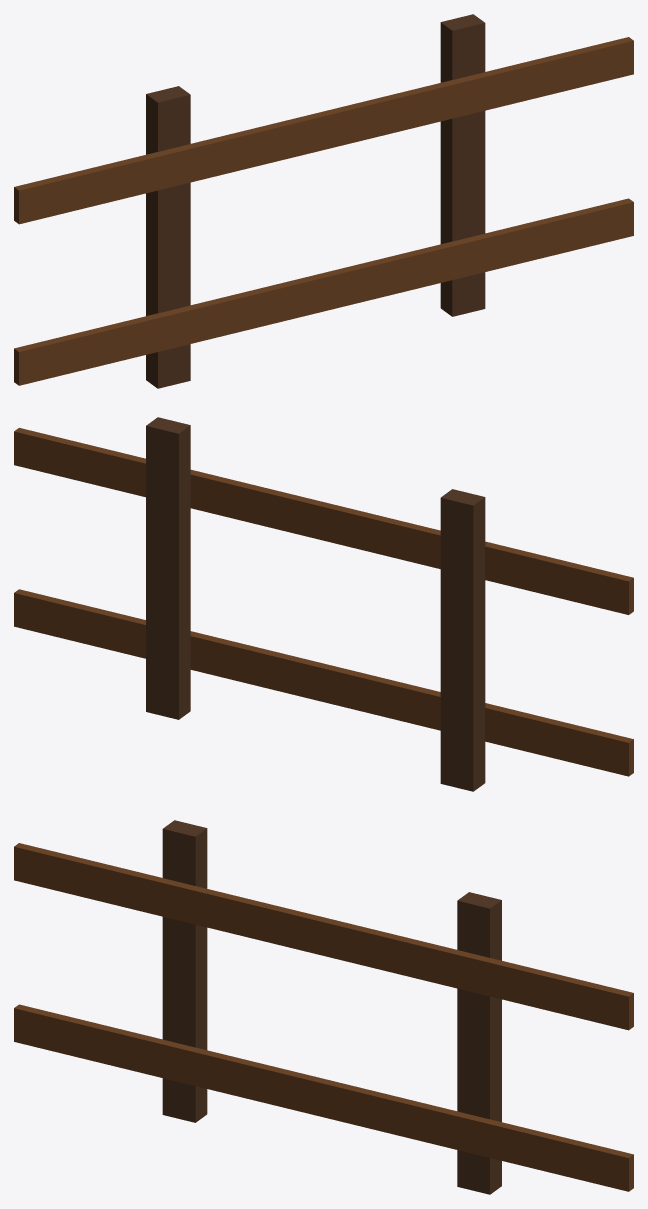
The model's file is Fence.glb.
3 renders of one model, top to bottom at view 1: azimuth 30°, elevation 25°; view 2: azimuth 150°, elevation 25°; view 3: azimuth 330°, elevation 25°, orthographic.
Parts seen in each view (by area): view 1: Fence2; view 2: Fence2; view 3: Fence2.
Part boxes in pixels (x1,y1,x2,y2): Fence2: (14,14,633,388); Fence2: (14,417,633,791); Fence2: (14,820,633,1194).
Bounding box in the file's own units: 2.09 × 0.9283 × 0.0989.
1 material, 1 textured.
